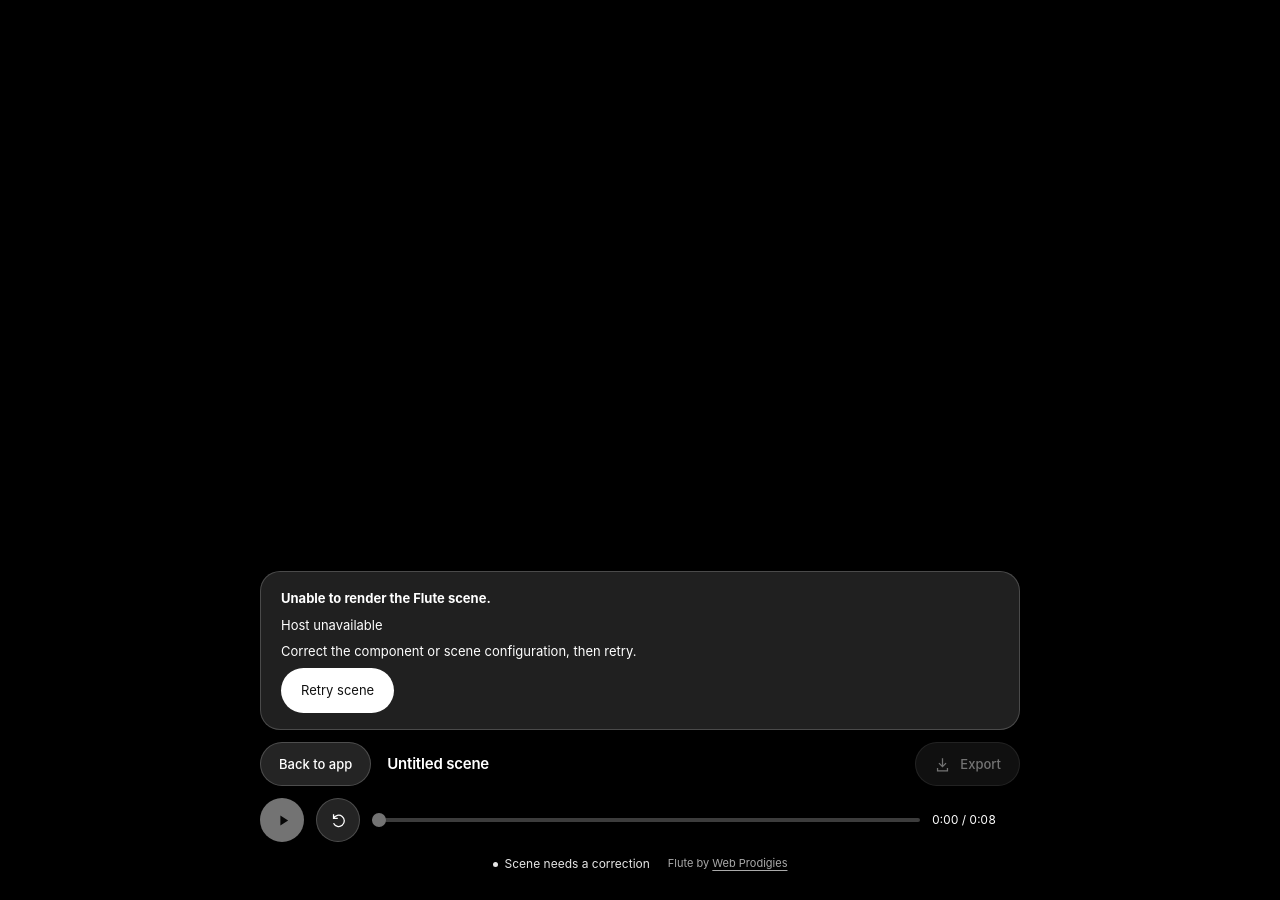
Test: renders the canonical error and retry outside capture in the controls region
Expected: the message that starts with "Unable to render the Flute scene." shows "Host unavailable", [281,617,382,633]
Expected: the link "Back to app" is shown, [260,742,371,786]
Click the button "Retry scene". click: (338, 691)
box: [281,668,394,713]
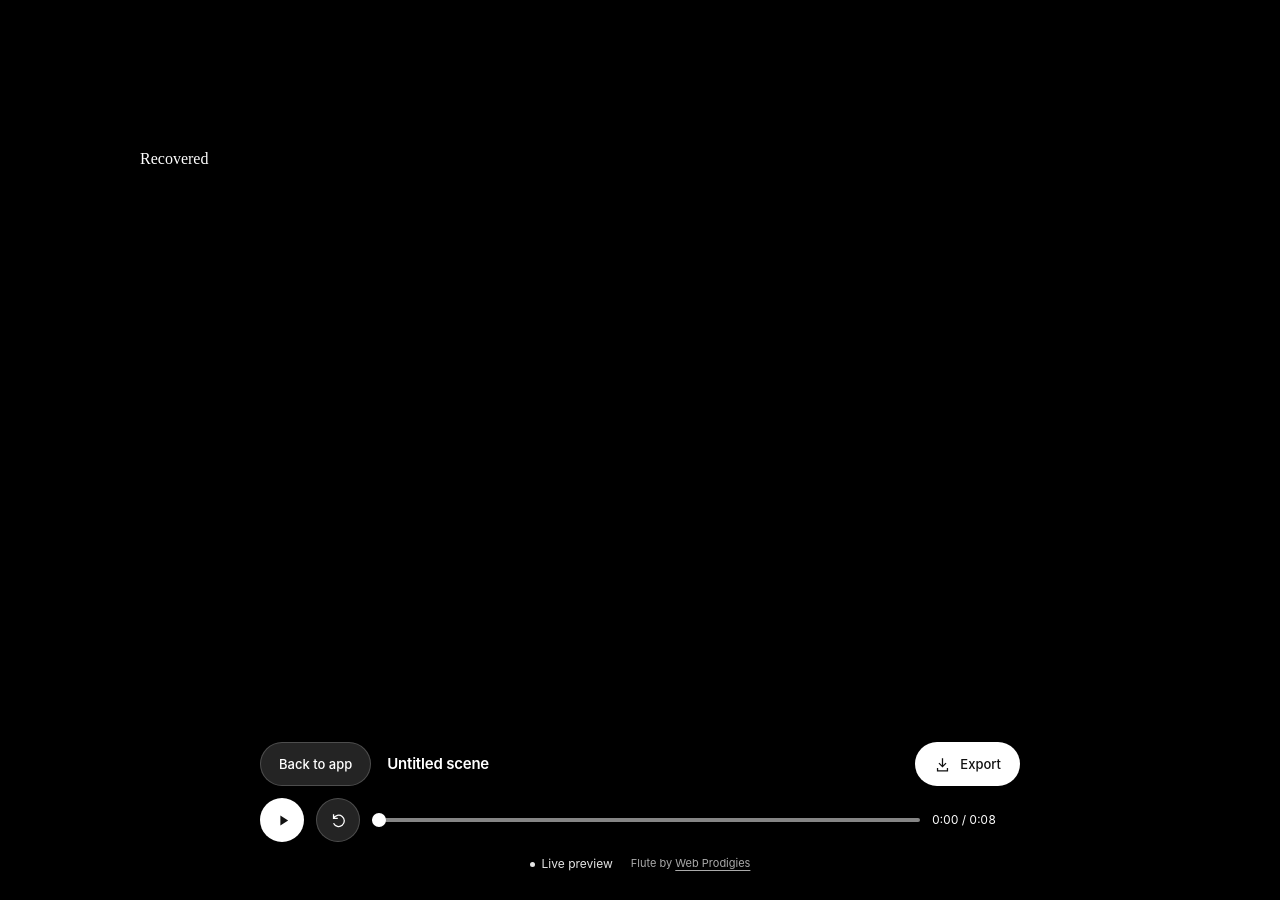
Expected: the element showing "Recovered" is shown
Expected: the button named "Play" is enabled, [260,798,304,842]
